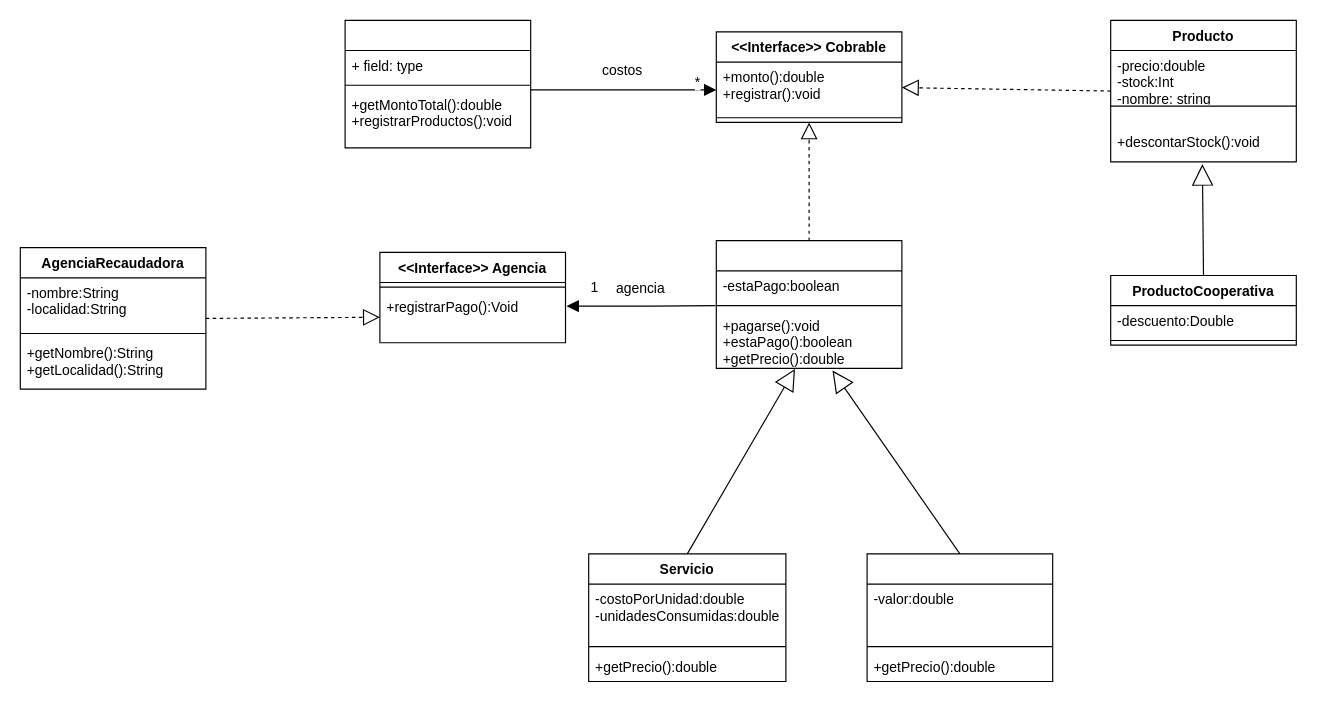
The diagram is 1317 pixels wide and 705 high, and some of its shapes have lost their labels. Each missing label, with the box of its shape:
Caja: (344, 19, 531, 148)
Factura: (715, 240, 902, 368)
Impuesto: (866, 553, 1053, 682)
